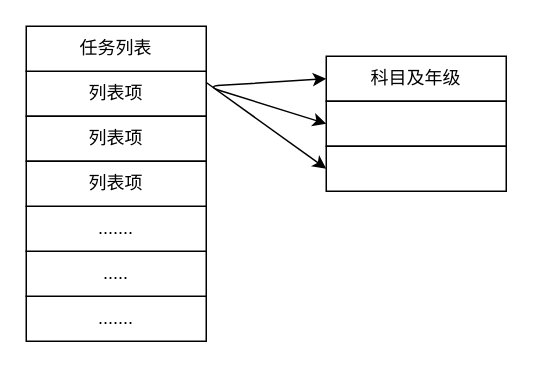
Some shapes in this 533 by 368 pixel diagram are drawn without their labels. The shapes that lost their labels are listed below. From the top down, each one's centre as x and y in pixels, then its label:
At (415,123): "任务名".
At (415,168): "试卷（一份或多份）".
